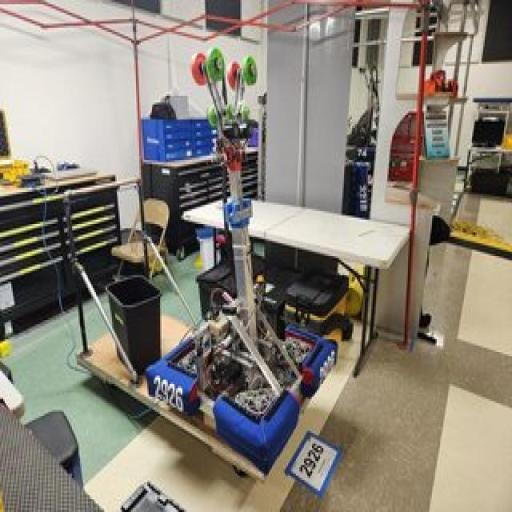robot: (139, 38, 339, 460)
